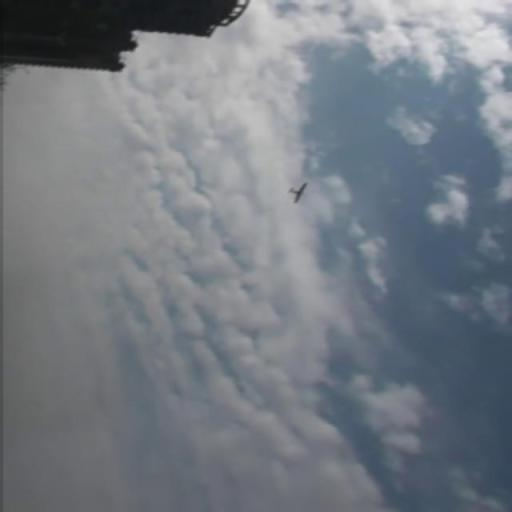uav: (286, 183, 310, 203)
